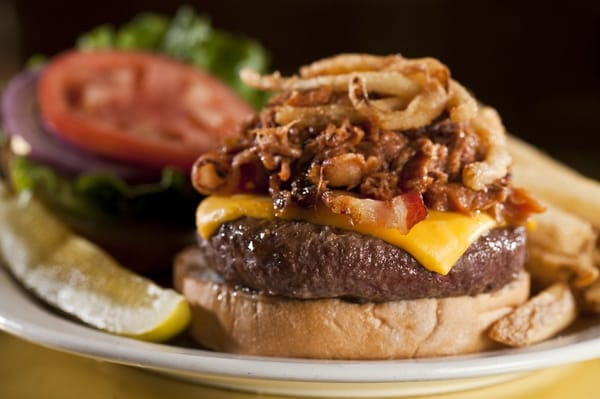curry: (76, 5, 274, 105)
soup: (173, 54, 552, 361)
